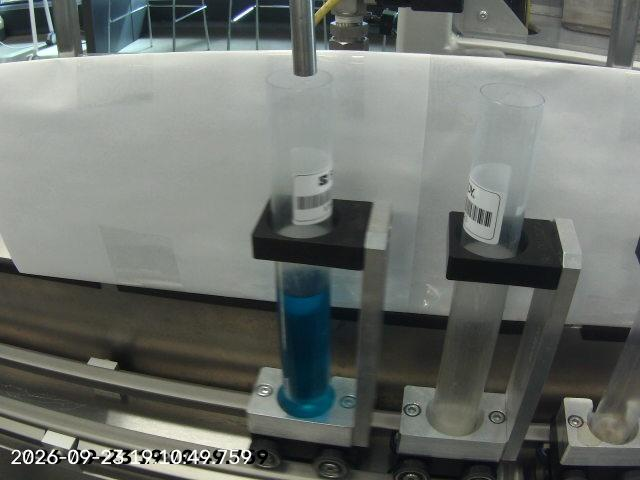vial: (426, 80, 545, 435), (265, 66, 335, 421)
